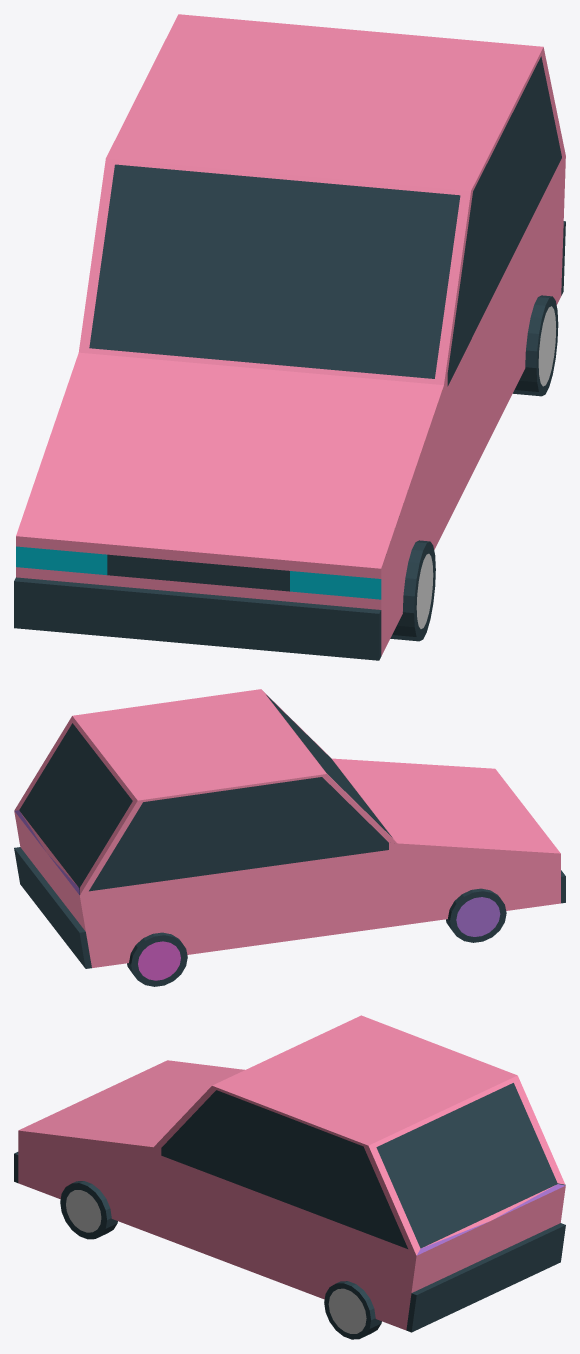
Rendered from car_03_1_world_ap_0_lev1.glb.
The picture shows the model from 3 angles, top to bottom: view 1: azimuth 30°, elevation 25°; view 2: azimuth 150°, elevation 25°; view 3: azimuth 270°, elevation 25°; orthographic projection. The views are drawn at different scales.
Parts seen in each view (by area): view 1: car_03_1_world_ap_0_lev1; view 2: car_03_1_world_ap_0_lev1; view 3: car_03_1_world_ap_0_lev1.
Part boxes in pixels (box(x1,y1,x2,y2)): car_03_1_world_ap_0_lev1: box(14, 14, 565, 660); car_03_1_world_ap_0_lev1: box(14, 689, 565, 986); car_03_1_world_ap_0_lev1: box(14, 1015, 565, 1339).
Bounding box in the file's own units: 1.46 × 0.6023 × 1.53.
1 material, 1 textured.
